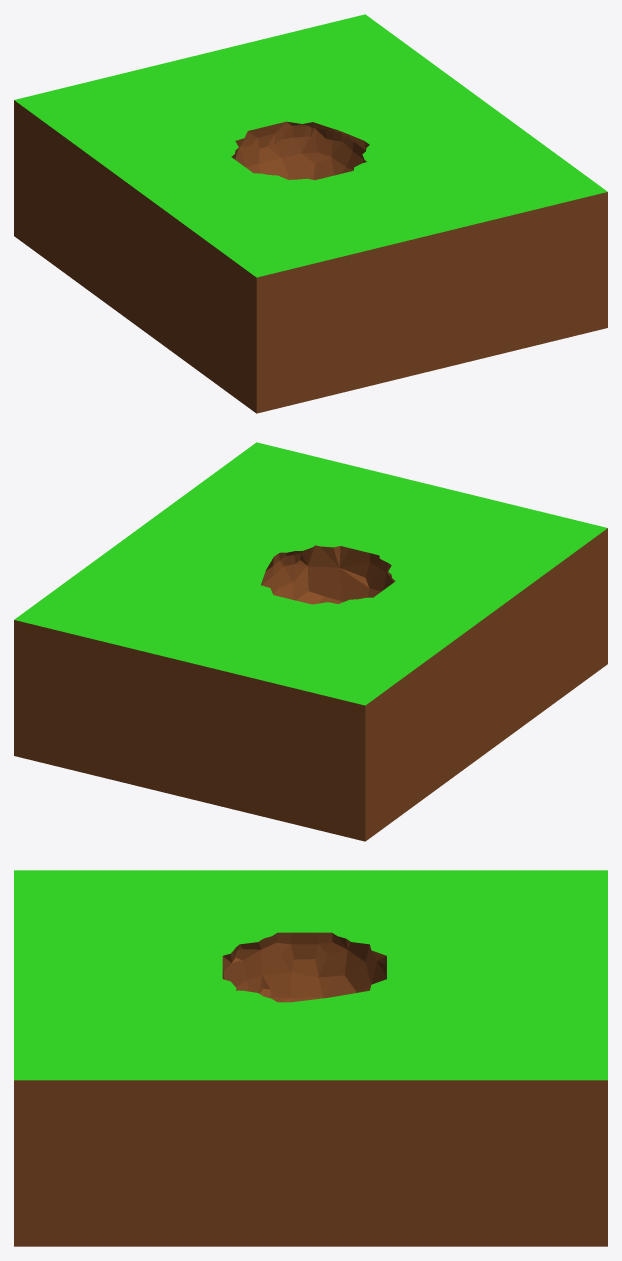
3 views of the same model, one above another, from view 1: azimuth 30°, elevation 25°; view 2: azimuth 150°, elevation 25°; view 3: azimuth 270°, elevation 25° (orthographic). The views are drawn at different scales.
Parts seen in each view (by area): view 1: Cube; view 2: Cube; view 3: Cube.
Boxes of the visible parts, x1,y1,x2,y2 form: Cube: (14,14,607,413); Cube: (14,442,607,841); Cube: (14,870,607,1246).
Bounding box in the file's own units: 541 × 200 × 646.
